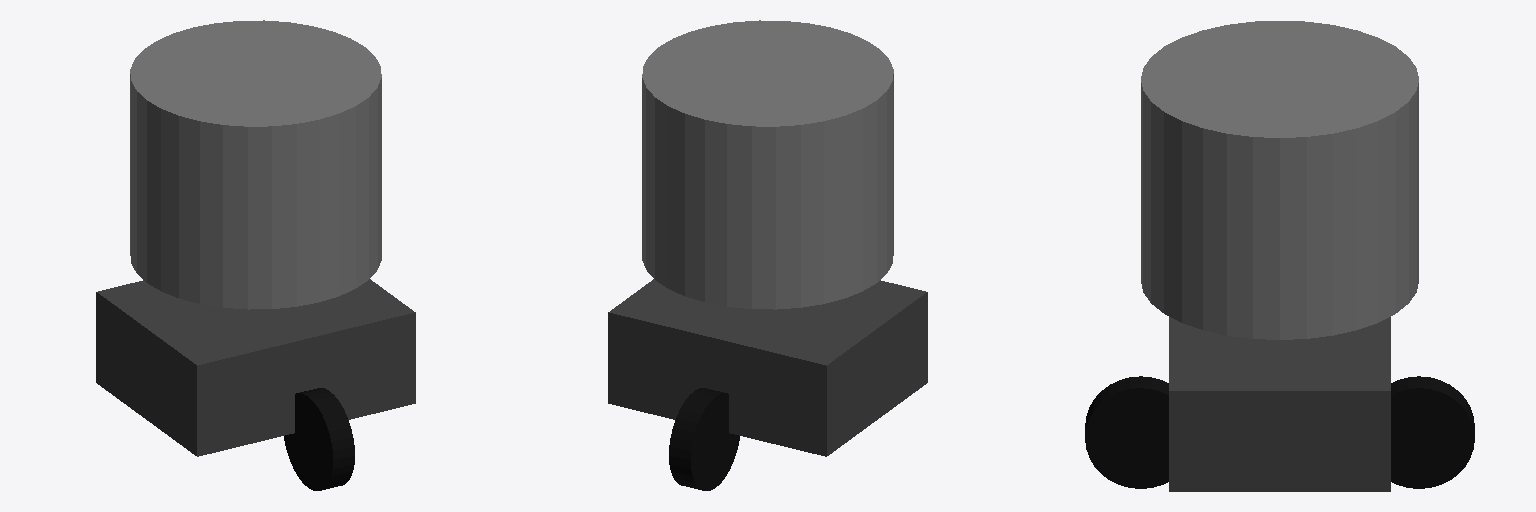
The robot description file, URDF, robot "q5_robot":
<?xml version="1.0"?>
<robot name="q5_robot">
  <!-- 星动纪元Q5轮式人形机器人URDF模型占位文件，实际使用时替换为官方完整URDF -->
  <link name="base_link">
    <visual>
      <origin xyz="0 0 0.2" rpy="0 0 0"/>
      <geometry>
        <cylinder length="0.4" radius="0.25"/>
      </geometry>
      <material name="gray">
        <color rgba="0.5 0.5 0.5 1"/>
      </material>
    </visual>
  </link>

  <link name="chassis_link">
    <visual>
      <origin xyz="0 0 0" rpy="0 0 0"/>
      <geometry>
        <box size="0.5 0.4 0.2"/>
      </geometry>
      <material name="dark_gray">
        <color rgba="0.3 0.3 0.3 1"/>
      </material>
    </visual>
  </link>

  <joint name="base_chassis_joint" type="fixed">
    <parent link="base_link"/>
    <child link="chassis_link"/>
    <origin xyz="0 0 -0.2" rpy="0 0 0"/>
  </joint>

  <!-- 差速底盘轮子 -->
  <link name="left_wheel_link">
    <visual>
      <origin xyz="0 0 0" rpy="0 1.5707 0"/>
      <geometry>
        <cylinder length="0.05" radius="0.1"/>
      </geometry>
      <material name="black">
        <color rgba="0.1 0.1 0.1 1"/>
      </material>
    </visual>
  </link>

  <joint name="left_wheel_joint" type="continuous">
    <parent link="chassis_link"/>
    <child link="left_wheel_link"/>
    <origin xyz="0 0.25 -0.1" rpy="0 0 0"/>
    <axis xyz="0 1 0"/>
  </joint>

  <link name="right_wheel_link">
    <visual>
      <origin xyz="0 0 0" rpy="0 1.5707 0"/>
      <geometry>
        <cylinder length="0.05" radius="0.1"/>
      </geometry>
      <material name="black">
        <color rgba="0.1 0.1 0.1 1"/>
      </material>
    </visual>
  </link>

  <joint name="right_wheel_joint" type="continuous">
    <parent link="chassis_link"/>
    <child link="right_wheel_link"/>
    <origin xyz="0 -0.25 -0.1" rpy="0 0 0"/>
    <axis xyz="0 1 0"/>
  </joint>
</robot>

--- Render facts (derived) ---
Views: 3 orthographic renders of the robot side by side, from view 1: azimuth 30°, elevation 25°; view 2: azimuth 150°, elevation 25°; view 3: azimuth 270°, elevation 25°.
Robot: q5_robot — 4 links, 3 joints (2 continuous, 1 fixed); root link base_link; default pose: all joints at 0.
Visible links, largest first — view 1: base_link, chassis_link, right_wheel_link; view 2: base_link, chassis_link, left_wheel_link; view 3: base_link, chassis_link, left_wheel_link, right_wheel_link.
Boxes of the visible links, x1,y1,x2,y2 form: base_link: (130,20,381,309); chassis_link: (96,279,415,456); right_wheel_link: (284,388,354,490); base_link: (642,20,893,309); chassis_link: (608,279,927,456); left_wheel_link: (669,388,739,490); base_link: (1141,21,1418,339); chassis_link: (1169,317,1390,491); left_wheel_link: (1391,376,1474,488); right_wheel_link: (1085,376,1168,488).
Bounding box of the posed robot: 0.5 × 0.7 × 0.8 m (x, y, z).
Geometry: primitives only (box / cylinder / sphere), no mesh files.
